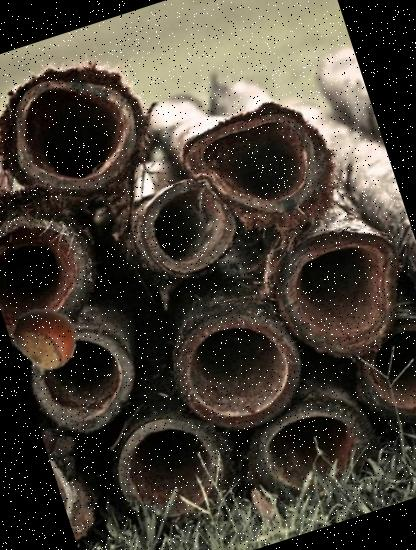Nut: (6, 298, 84, 377)
